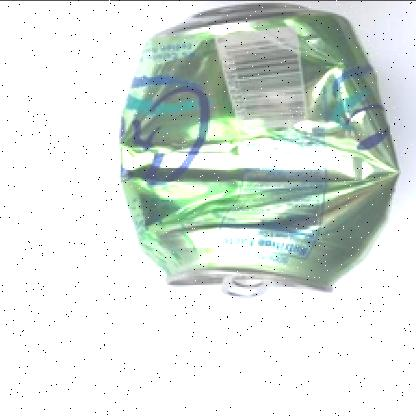Can: (120, 0, 398, 300), (0, 415, 1, 416)
